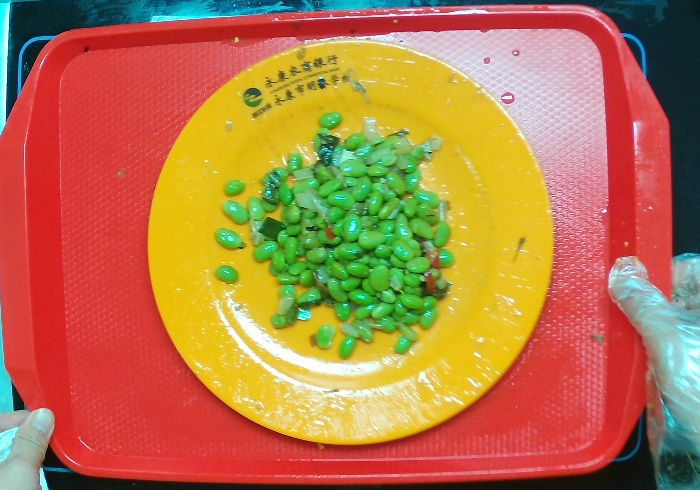YKMZ-Ju_Se_Mian_Pan: (147, 42, 557, 449)
